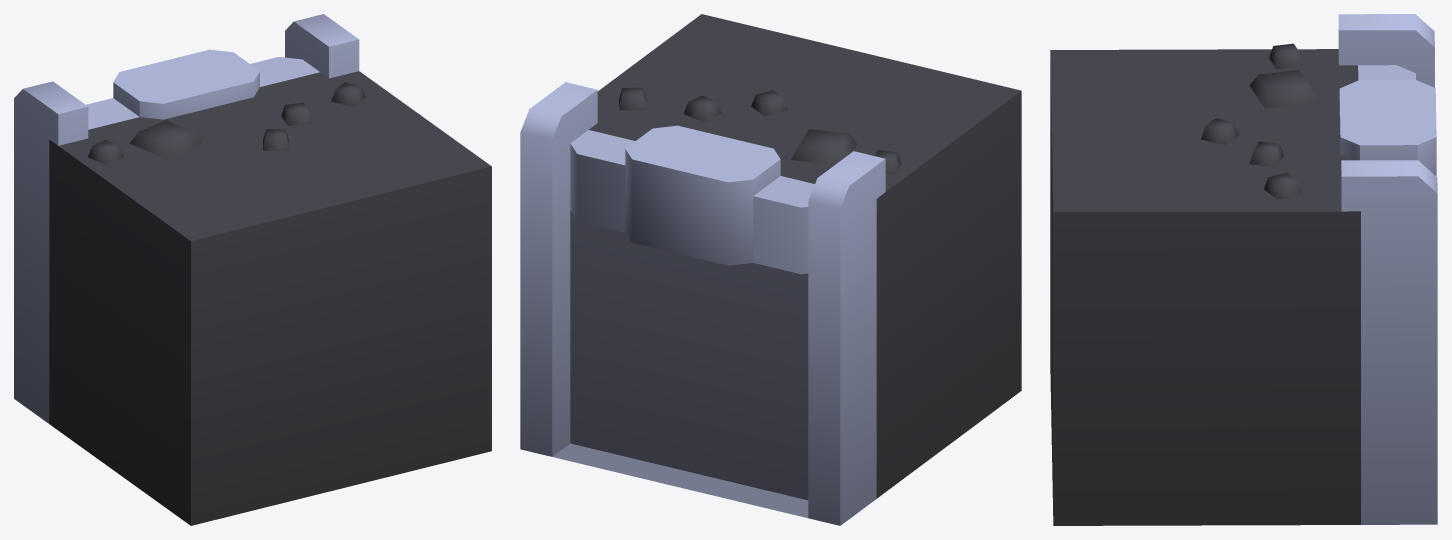
The model's file is wall-half.004_lev5.glb.
3 renders of one model, left to right at view 1: azimuth 30°, elevation 25°; view 2: azimuth 150°, elevation 25°; view 3: azimuth 270°, elevation 25°, orthographic. The views are drawn at different scales.
Parts seen in each view (by area): view 1: wall-half.004_lev5; view 2: wall-half.004_lev5; view 3: wall-half.004_lev5.
Boxes of the visible parts, x1,y1,x2,y2 form: wall-half.004_lev5: (14,14,491,525); wall-half.004_lev5: (520,14,1021,525); wall-half.004_lev5: (1050,14,1437,525).
Size of the model in its own units: 4.03 by 4 by 4.03.
1 material, 1 textured.
